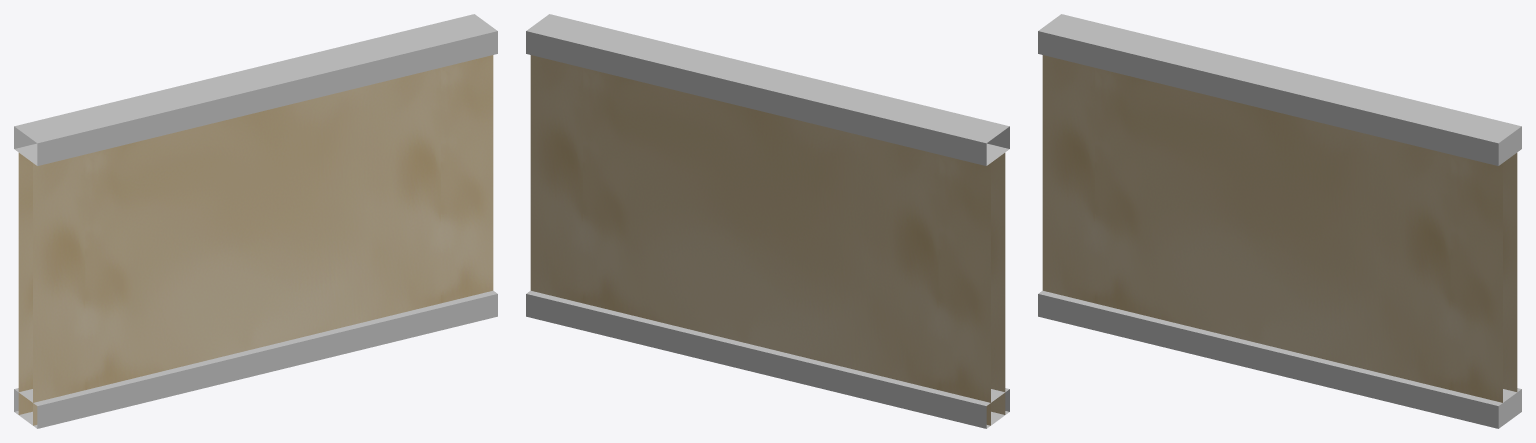
Rendered from MOD_wall_01.fbx.
The picture shows the model from 3 angles, left to right: view 1: azimuth 30°, elevation 25°; view 2: azimuth 150°, elevation 25°; view 3: azimuth 330°, elevation 25°; orthographic projection.
Parts seen in each view (by area): view 1: wall_01; view 2: wall_01; view 3: wall_01.
Part boxes in pixels (x1,y1,x2,y2): wall_01: (14, 14, 497, 428); wall_01: (526, 14, 1009, 428); wall_01: (1038, 14, 1521, 428).
Size of the model in its own units: 217 by 18.99 by 128.
